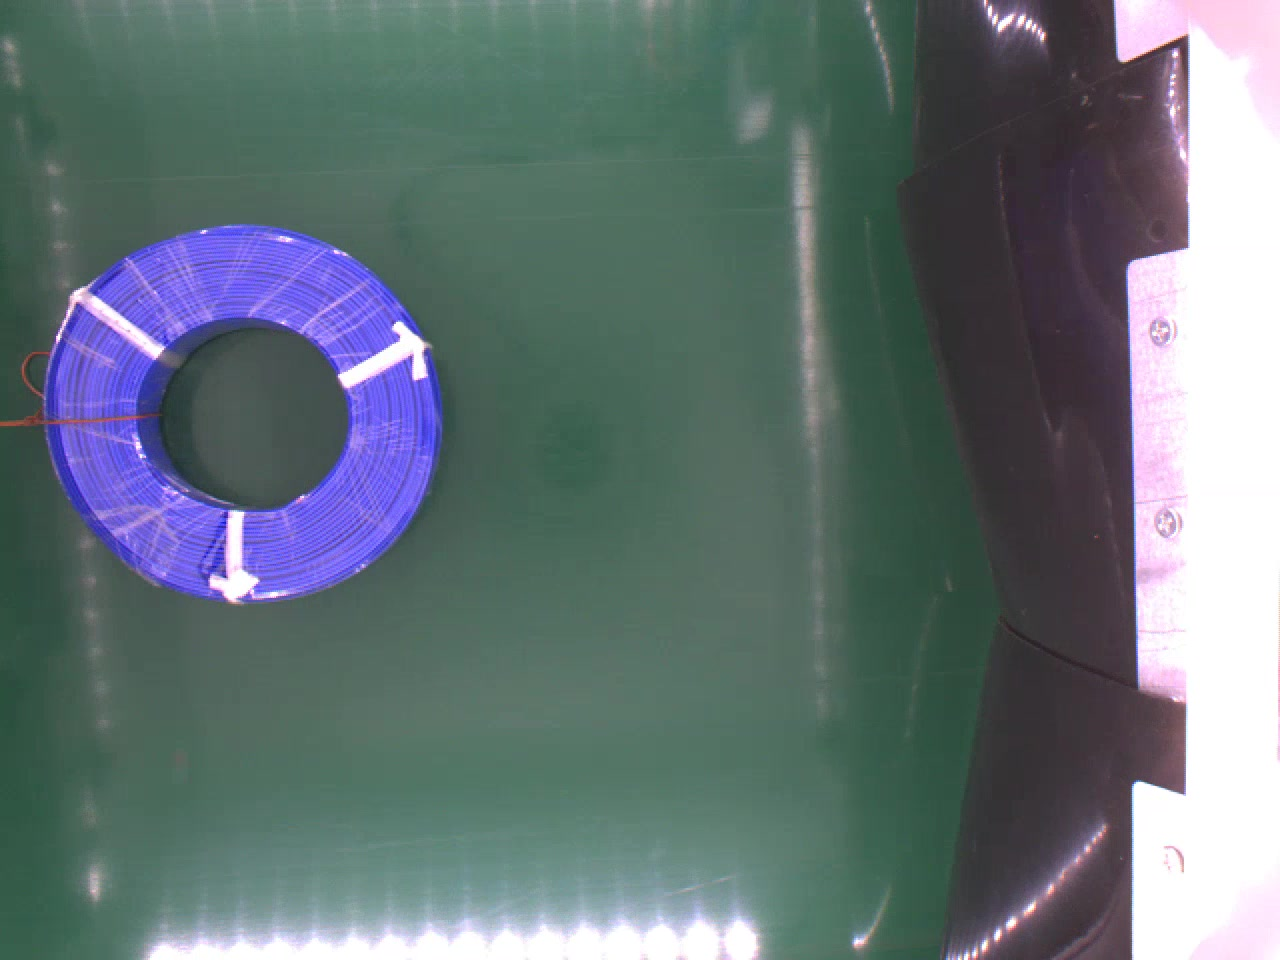blue: (49, 226, 440, 605)
